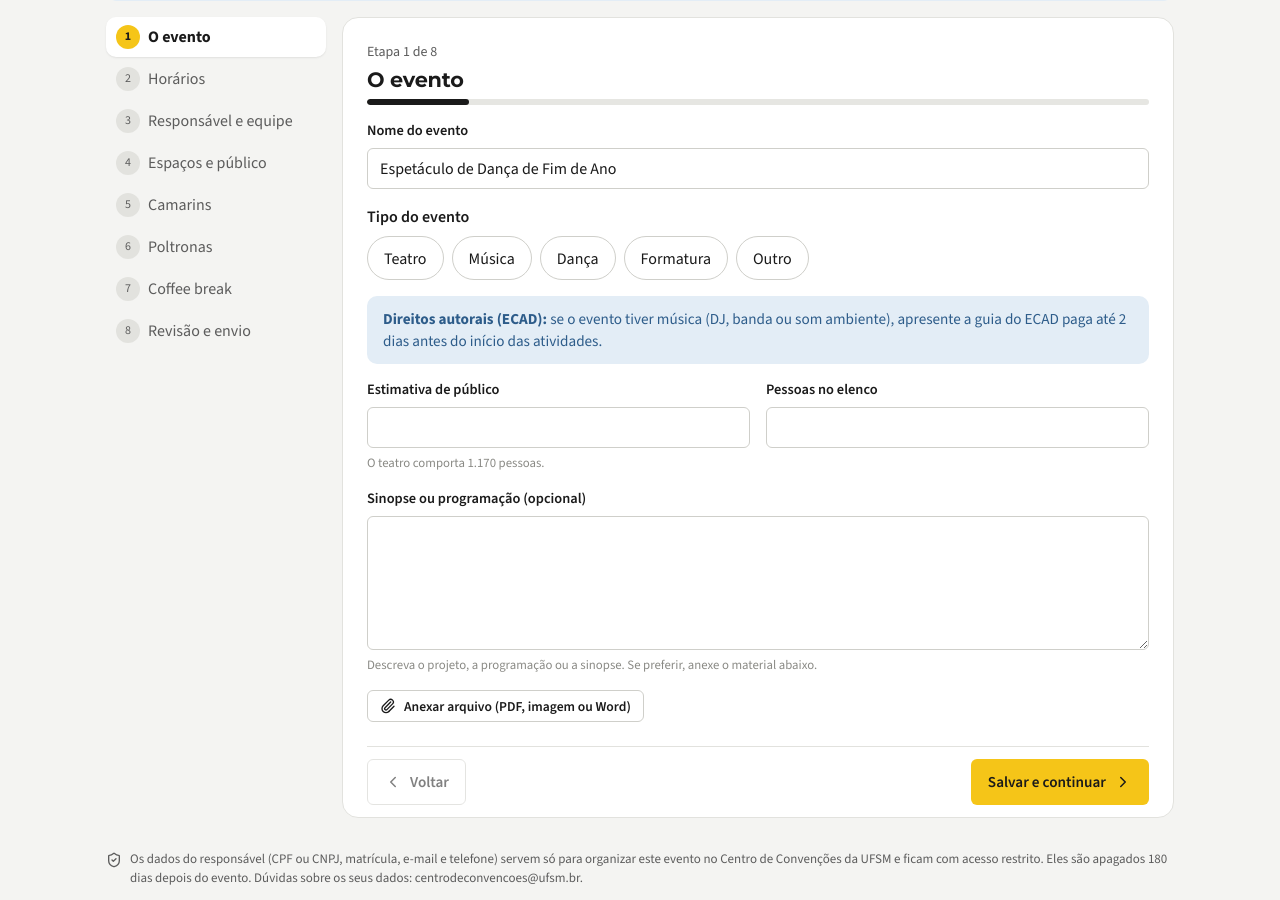
Test: ficha técnica: evento de 1 dia › avisa que montagem e desmontagem devem ser no mesmo dia
(page scrolled)
Click the radio button labelled "Música". click: (492, 258)
box: [452, 236, 532, 280]
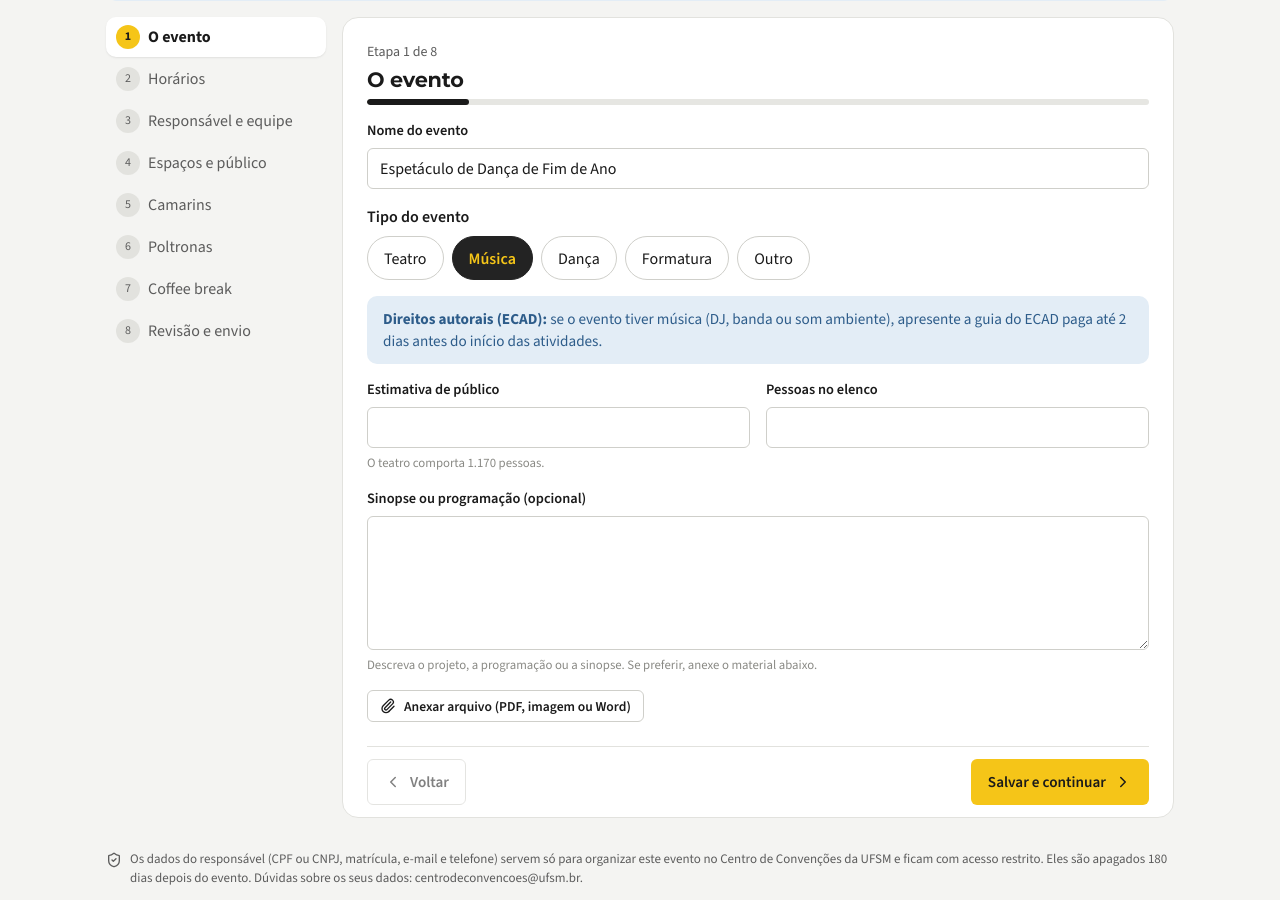
Type "600" into the number field labelled "Estimativa de público". click: (558, 428)
box: [367, 407, 750, 448]
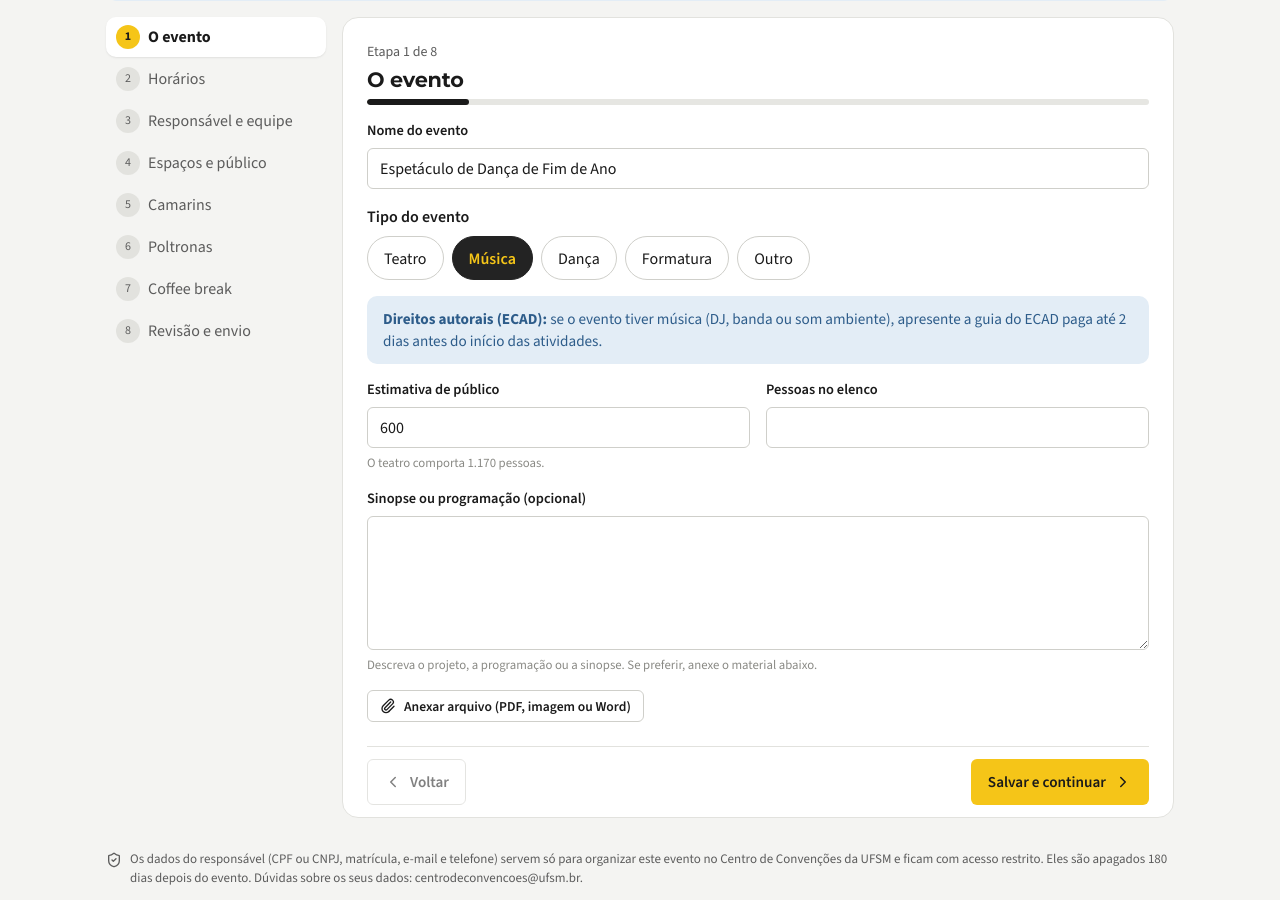
Type "40" into the number field labelled "Pessoas no elenco". click: (958, 428)
box: [766, 407, 1149, 448]
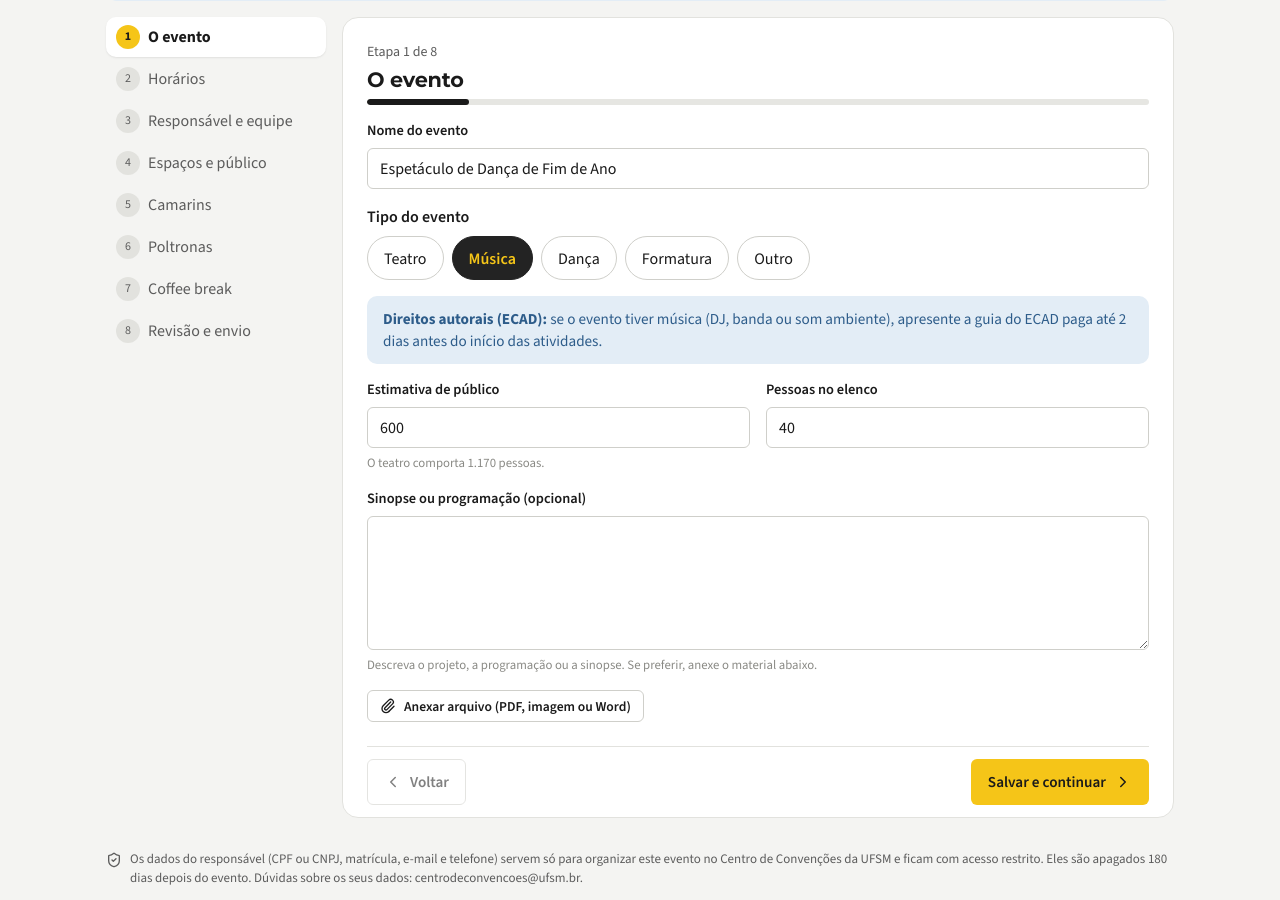
Click the button "Salvar e continuar". click: (1060, 782)
box: [971, 759, 1149, 805]
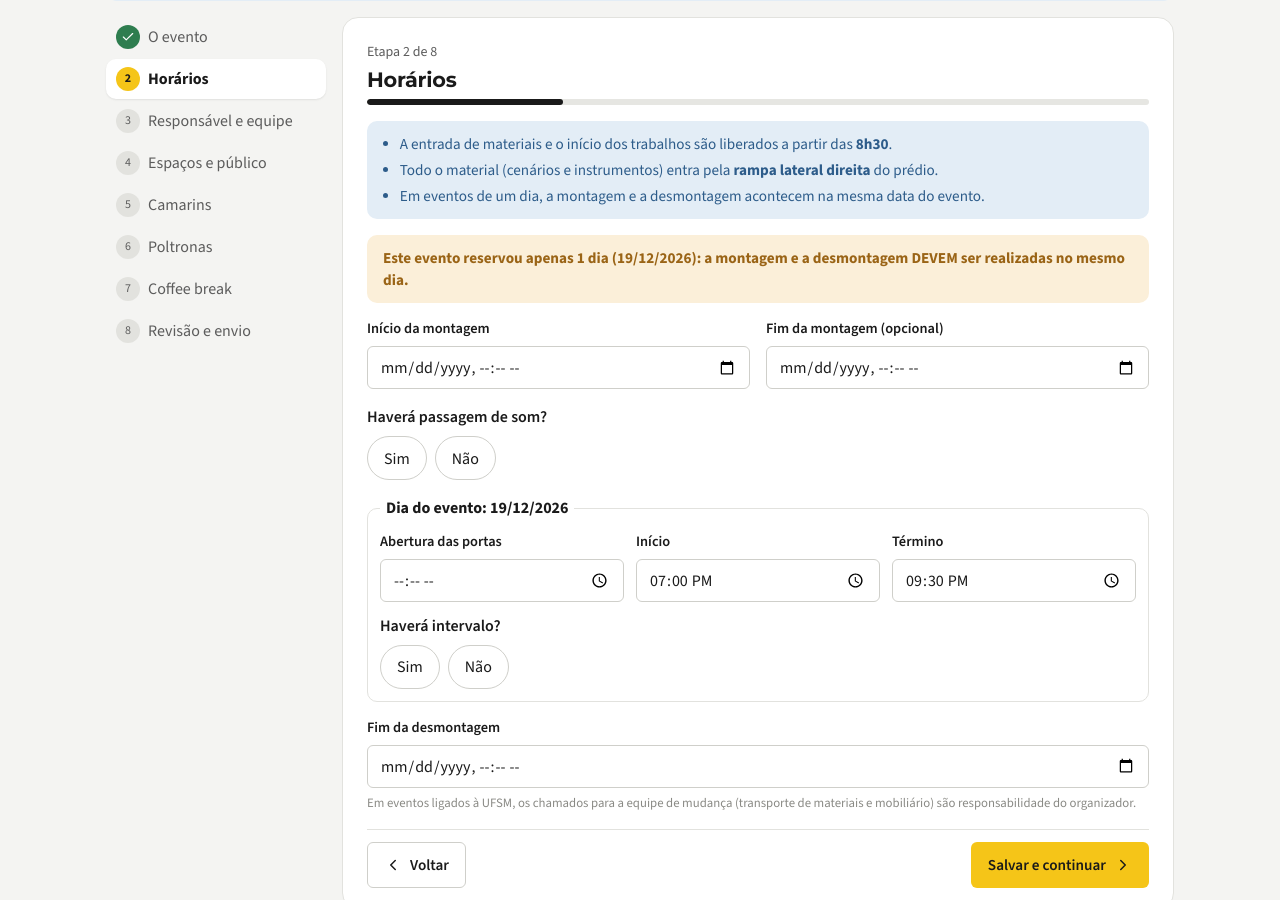
Result: the heading "Horários" is shown at [367, 67, 457, 92]
Result: the text "reservou apenas 1 dia (19/12/2026): a montagem e a desmontagem DEVEM ser realizadas no mesmo dia" is shown at [383, 248, 1125, 290]
